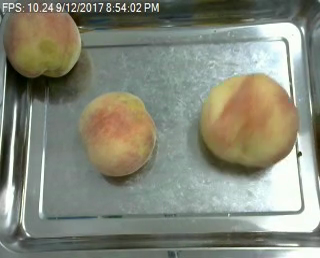Peach: (200, 72, 298, 168), (80, 91, 156, 176), (2, 1, 82, 79)
